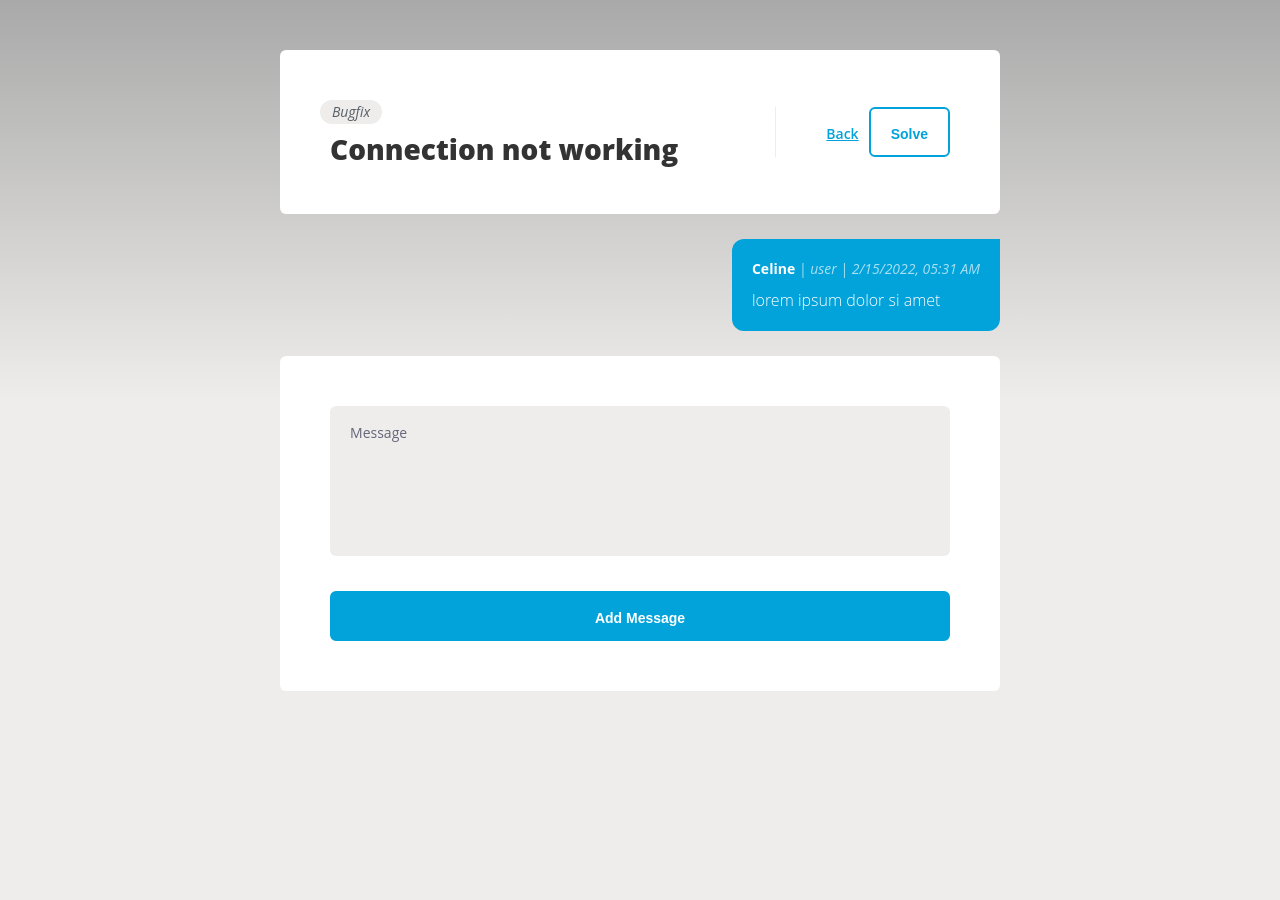
it: Ticket › should display form validation
Click the button "Add Message": (640, 616) top-left (330, 591), bottom-right (950, 641)
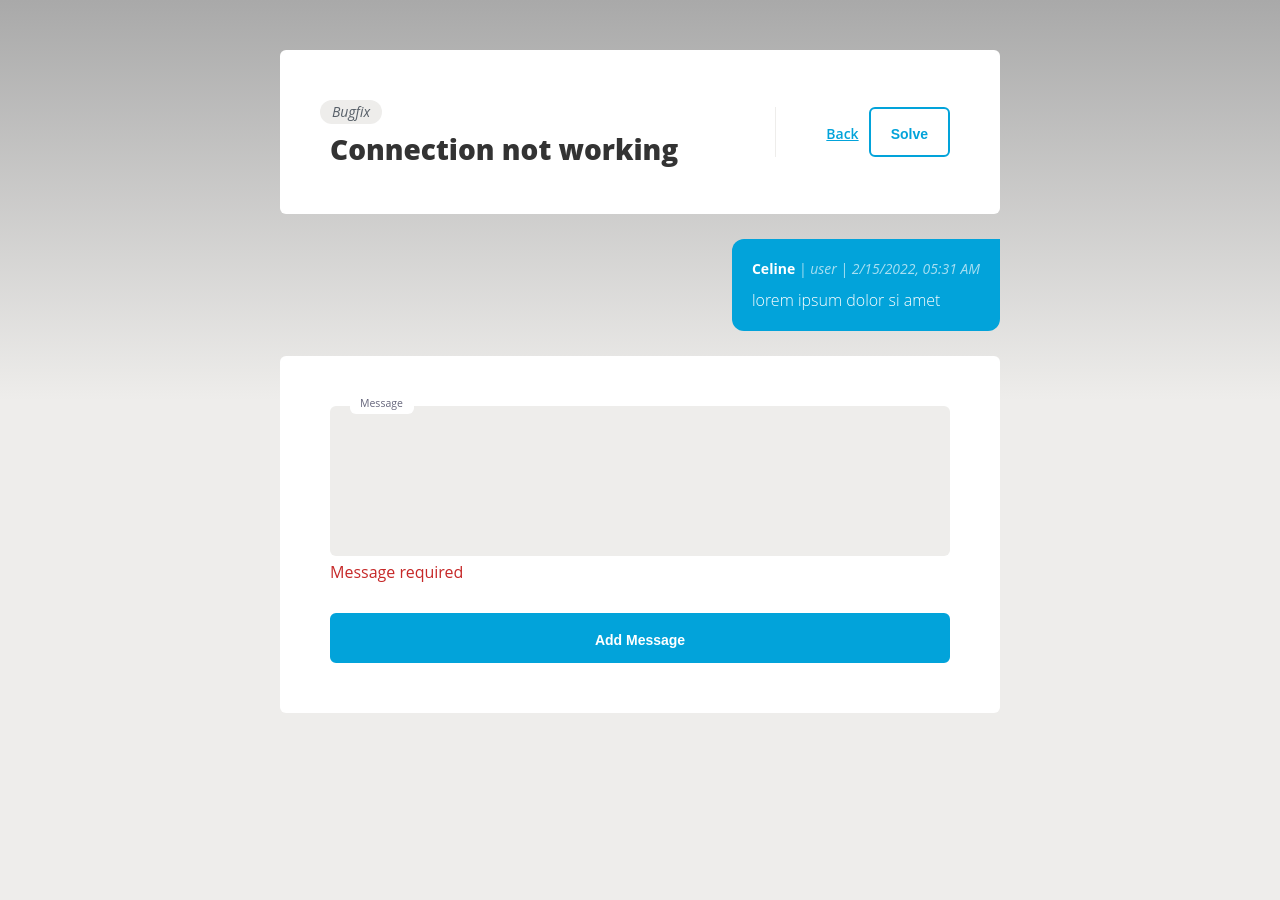
Now the text "Message required" is shown, box top-left (330, 561), bottom-right (463, 583)
